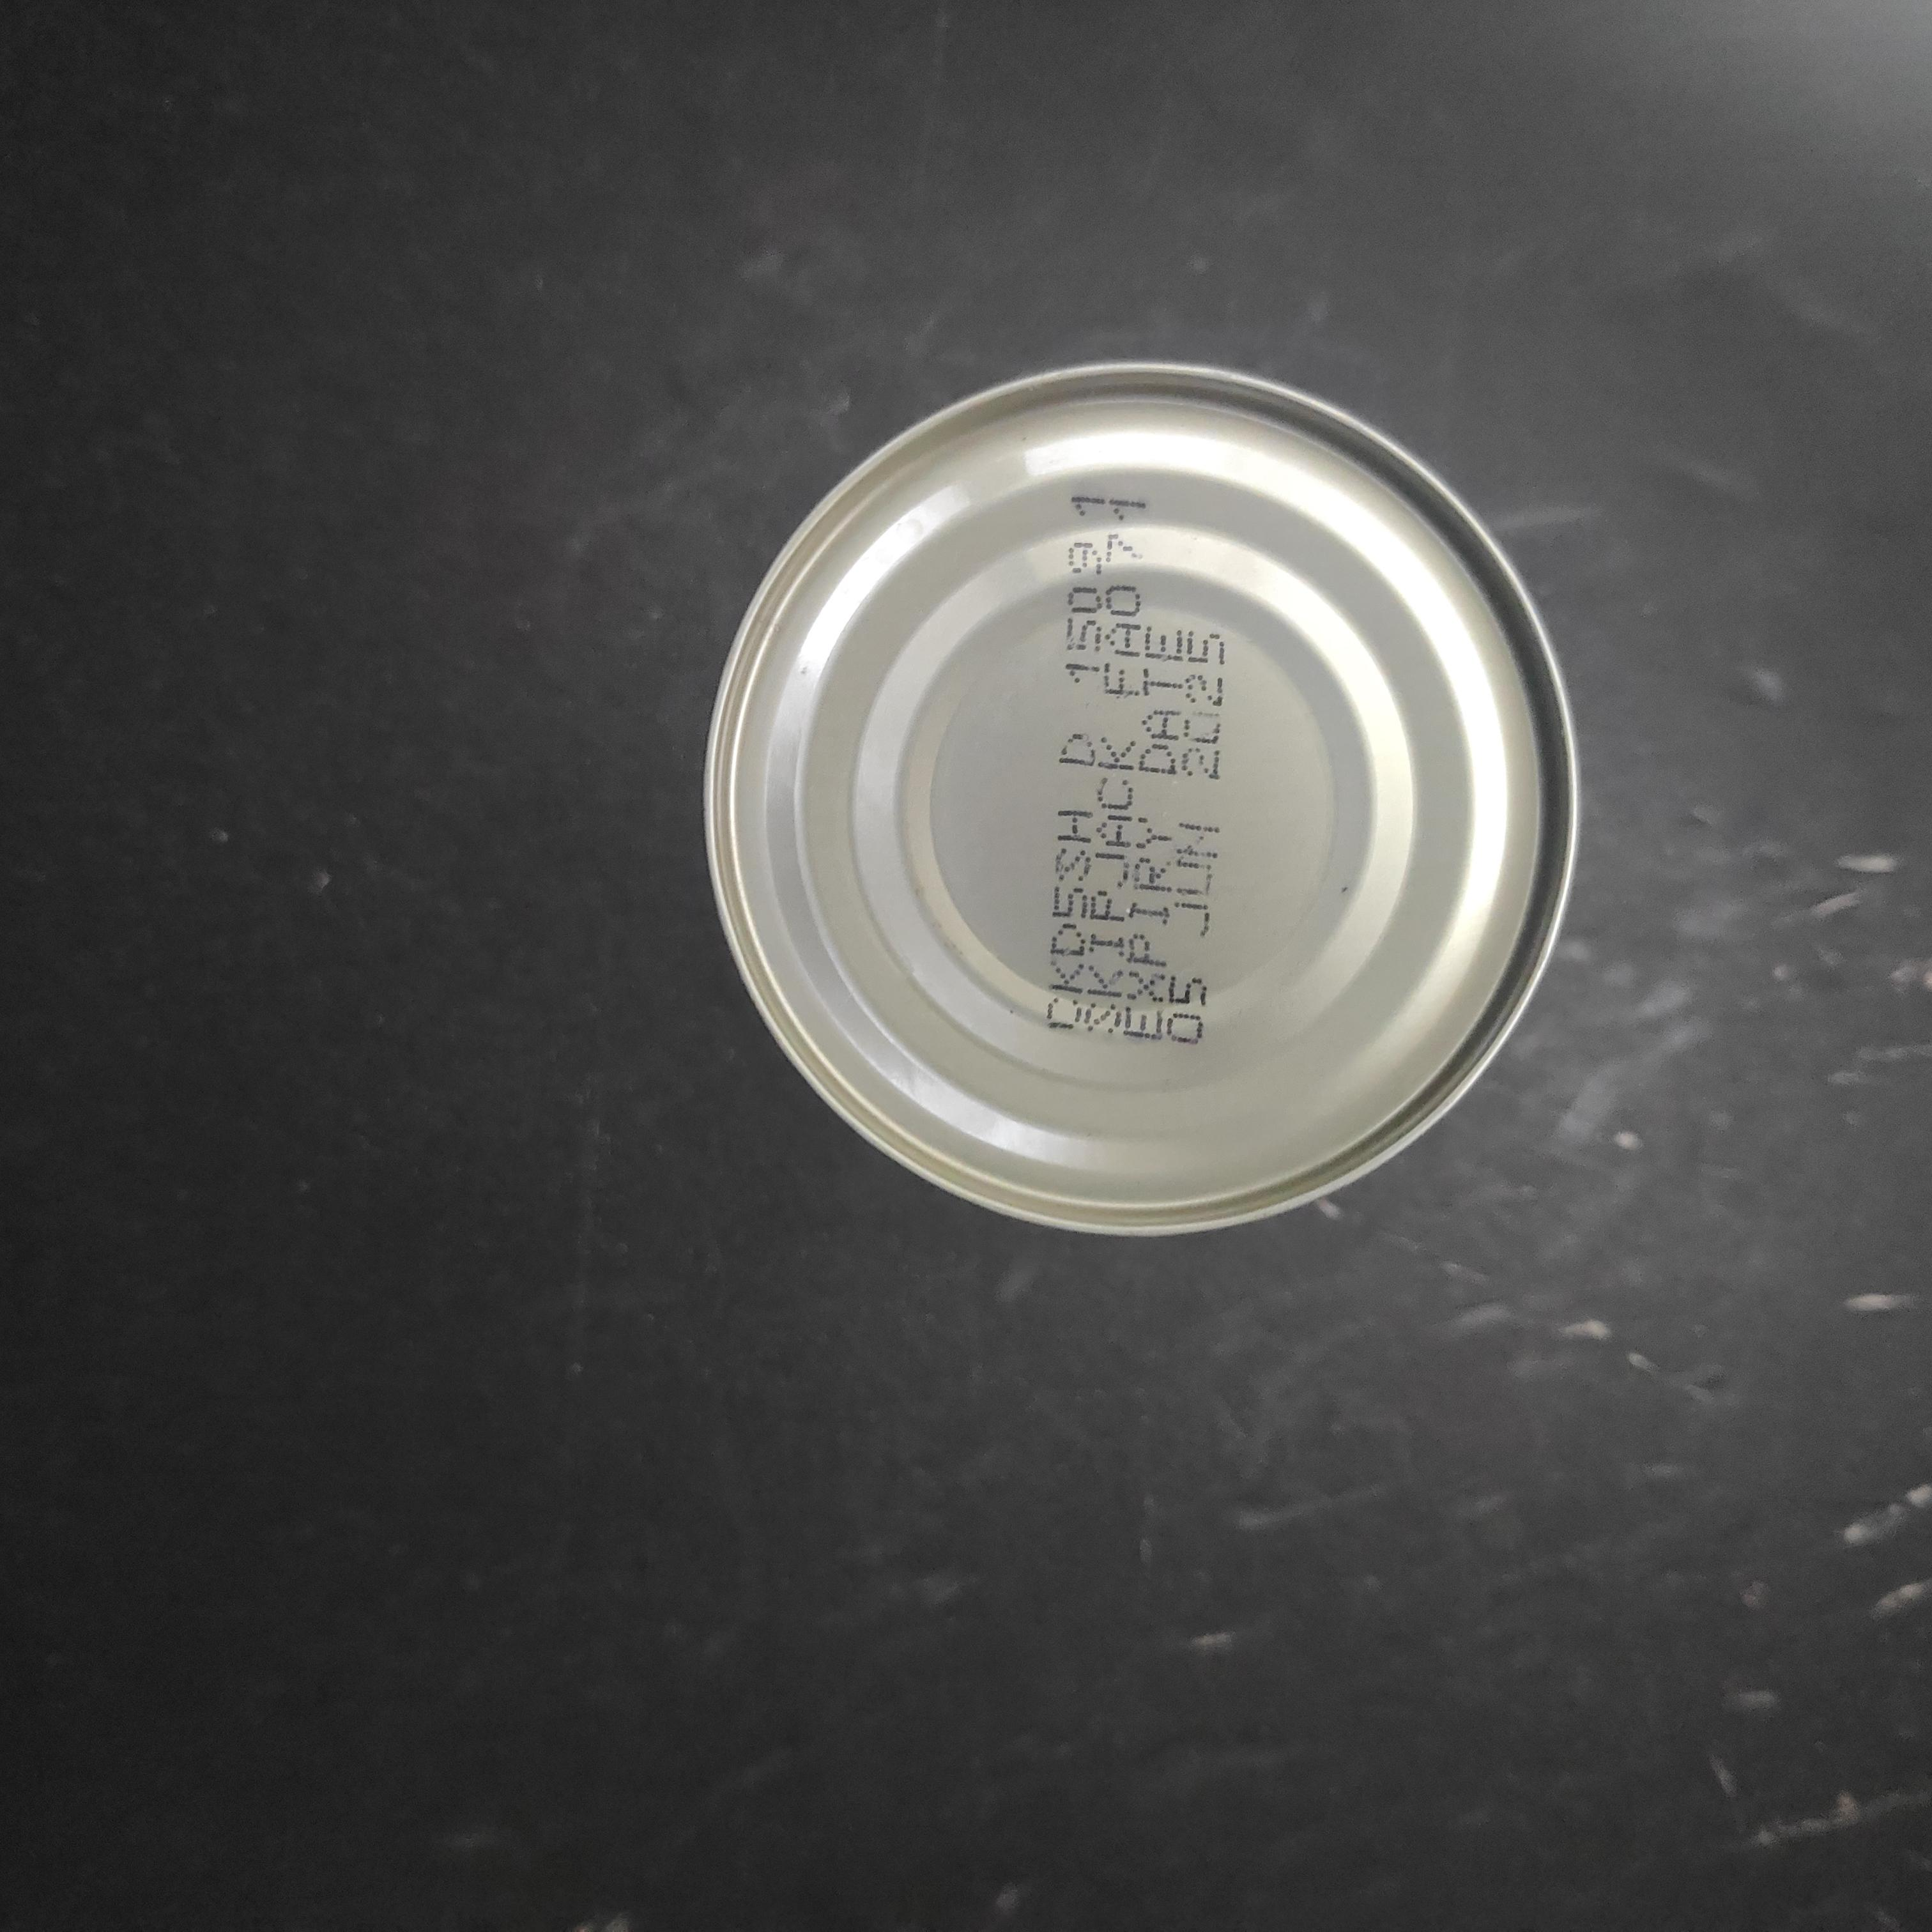No defect: (343, 674, 1244, 1592)
